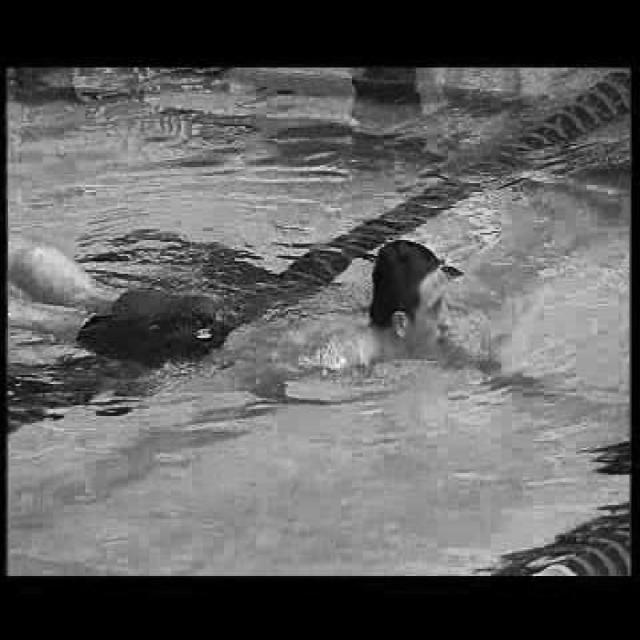swimming: (0, 224, 508, 453)
